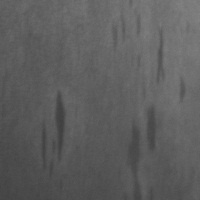inclusion: (37, 85, 71, 181), (122, 116, 147, 199), (107, 6, 146, 53), (147, 23, 170, 86), (142, 102, 166, 154), (174, 72, 191, 106)
